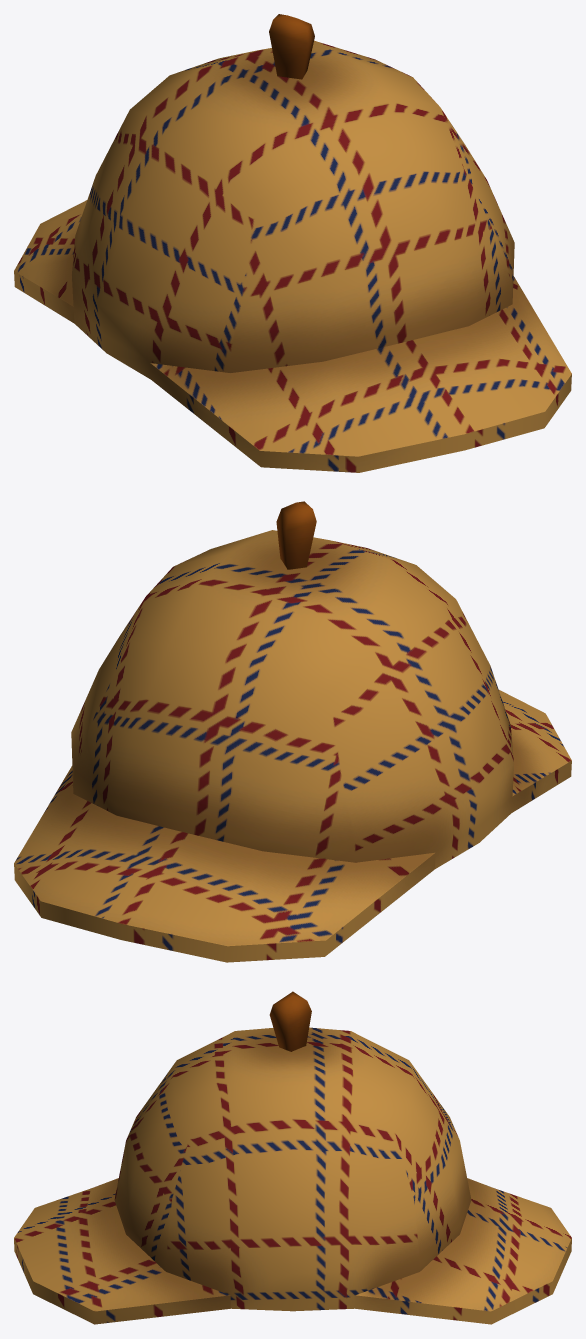
File: m_DetectiveHat01.obj
The picture shows the model from 3 angles, top to bottom: view 1: azimuth 30°, elevation 25°; view 2: azimuth 150°, elevation 25°; view 3: azimuth 270°, elevation 25°; orthographic projection. The views are drawn at different scales.
Visible parts, largest first — view 1: m_DetectiveHat01_mi_DetectiveHat; view 2: m_DetectiveHat01_mi_DetectiveHat; view 3: m_DetectiveHat01_mi_DetectiveHat.
Boxes of the visible parts, left/top/right/bottom form: m_DetectiveHat01_mi_DetectiveHat: left=14, top=14, right=571, bottom=472; m_DetectiveHat01_mi_DetectiveHat: left=14, top=501, right=571, bottom=962; m_DetectiveHat01_mi_DetectiveHat: left=14, top=991, right=571, bottom=1324.
Bounding box in the file's own units: 0.4778 × 0.3873 × 0.7416.
1 material, 1 textured.
